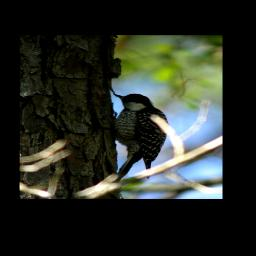Woodpecker: (111, 93, 169, 182)
